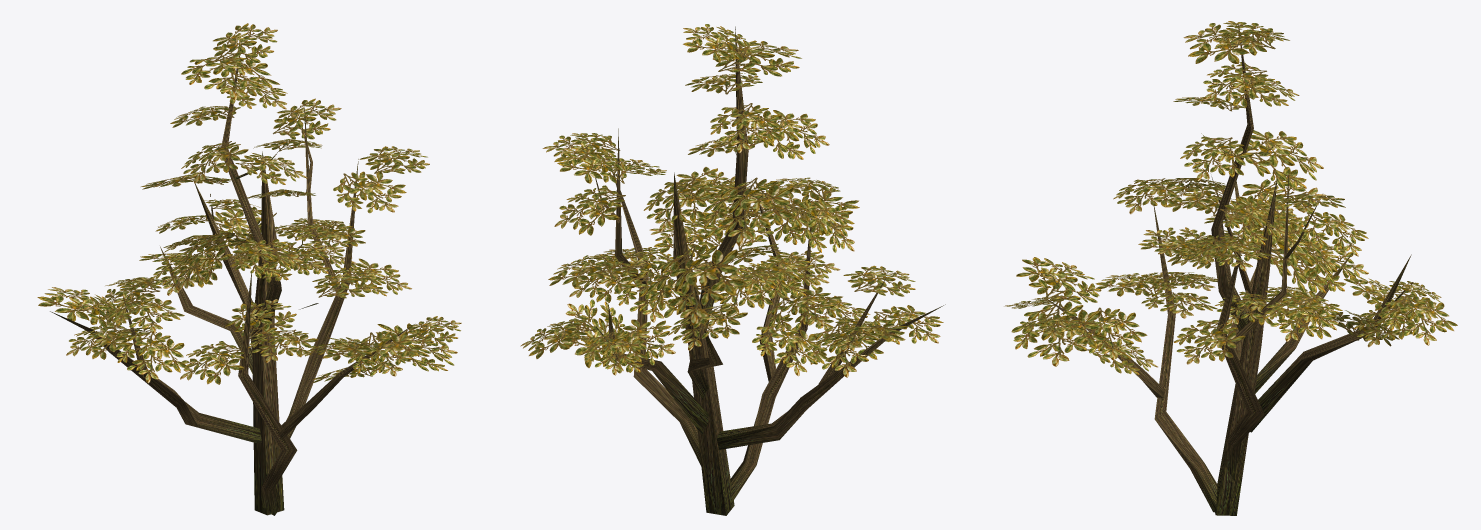
File: S_Tree_Yellow004.FBX
3 views of the same model, side by side, from view 1: azimuth 30°, elevation 25°; view 2: azimuth 150°, elevation 25°; view 3: azimuth 270°, elevation 25° (orthographic). The views are drawn at different scales.
Parts seen in each view (by area): view 1: S_Tree_Yellow004; view 2: S_Tree_Yellow004; view 3: S_Tree_Yellow004.
Boxes of the visible parts, box(x1,y1,x2,y2) form: S_Tree_Yellow004: box(37, 23, 461, 515); S_Tree_Yellow004: box(520, 24, 945, 515); S_Tree_Yellow004: box(1004, 21, 1457, 515).
Bounding box in the file's own units: 426 × 437 × 491.
